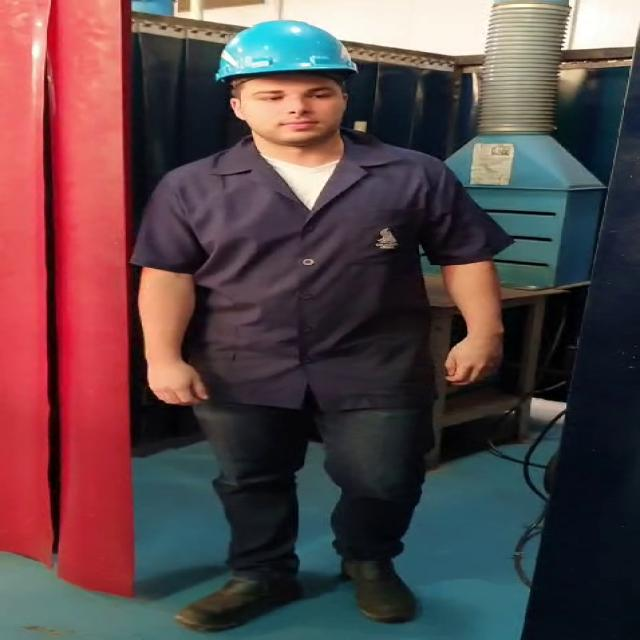sem_oculos: (191, 82, 350, 109)
